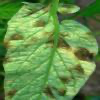Tomato mold leaf: (3, 1, 99, 99)
